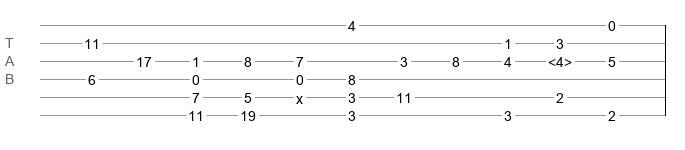0: (192, 72, 200, 82), (296, 72, 304, 82), (608, 18, 616, 28)
1: (192, 54, 200, 64), (504, 36, 512, 46)
11: (84, 36, 100, 46), (188, 108, 204, 118), (396, 90, 412, 100)
17: (136, 54, 152, 64)
19: (240, 108, 256, 118)
2: (556, 90, 564, 100), (608, 108, 616, 118)
3: (348, 90, 356, 100), (348, 108, 356, 118), (400, 54, 408, 64), (504, 108, 512, 118), (556, 36, 564, 46)
4: (348, 18, 356, 28), (504, 54, 512, 64)
5: (244, 90, 252, 100), (608, 54, 616, 64)
6: (88, 72, 96, 82)
7: (192, 90, 200, 100), (296, 54, 304, 64)
8: (244, 54, 252, 64), (348, 72, 356, 82), (452, 54, 460, 64)
harmonic: (548, 54, 572, 64)
x: (296, 91, 303, 99)
